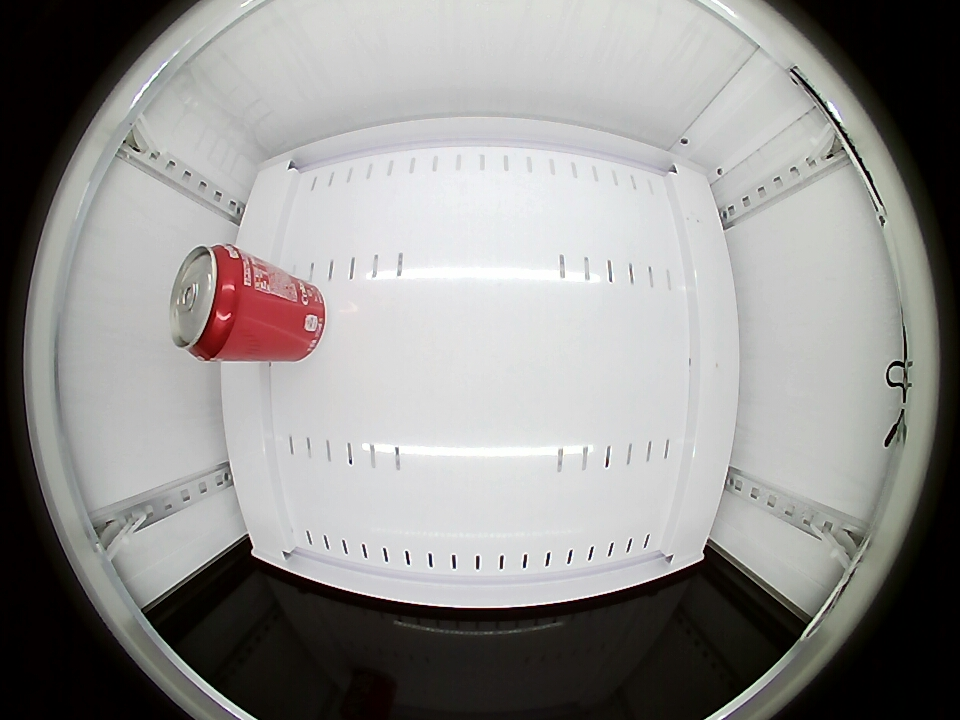kele: (169, 244, 250, 362)
